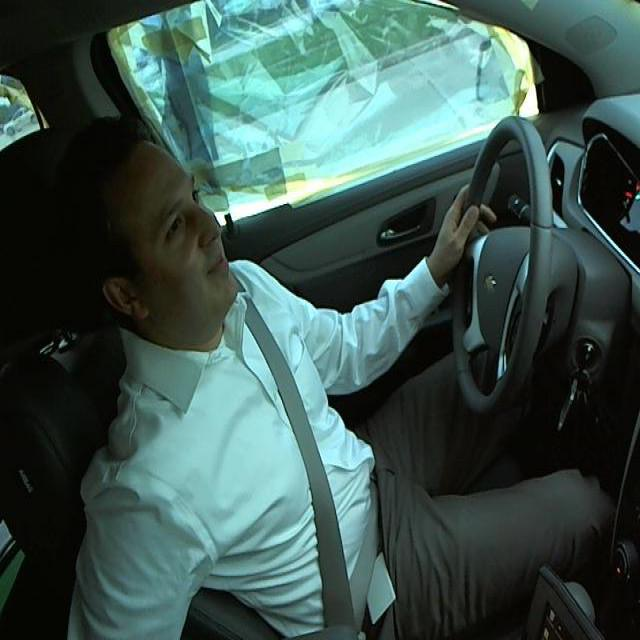seatbelt: (246, 318, 380, 630)
